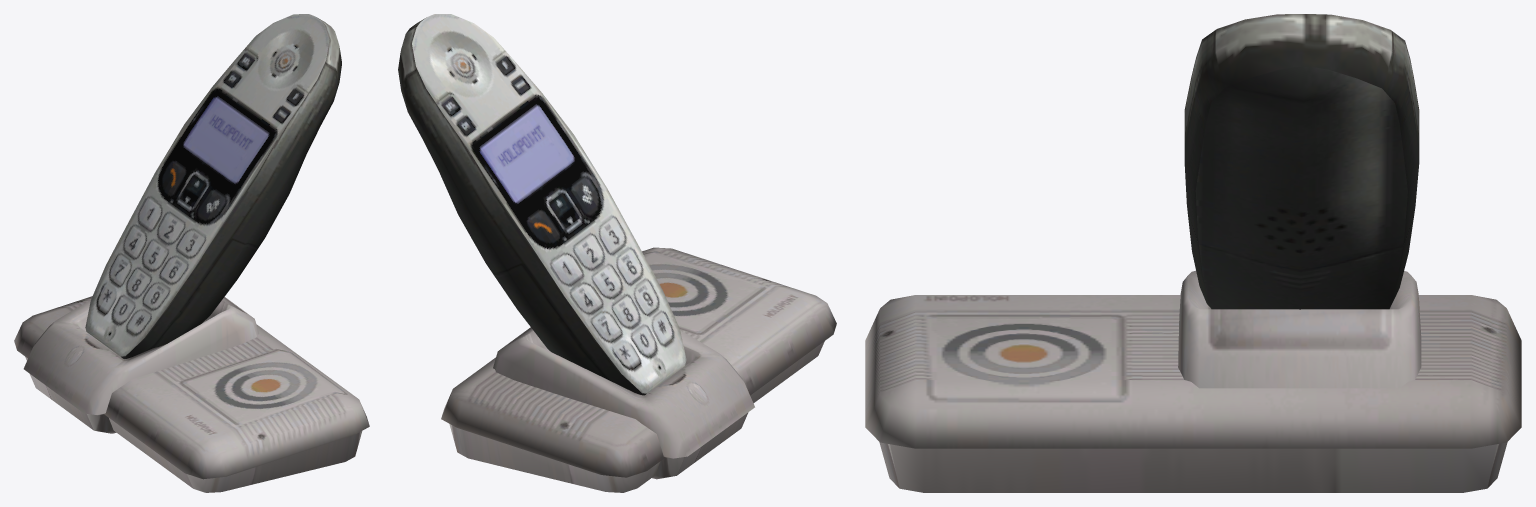
The model's file is officePhone.FBX.
The picture shows the model from 3 angles, left to right: view 1: azimuth 30°, elevation 25°; view 2: azimuth 150°, elevation 25°; view 3: azimuth 270°, elevation 25°; orthographic projection. The views are drawn at different scales.
Parts seen in each view (by area): view 1: phone, phonestand; view 2: phone, phonestand; view 3: phonestand, phone.
Part boxes in pixels (box(x1,y1,x2,y2)): phone: box(85, 14, 341, 358); phonestand: box(14, 296, 369, 492); phone: box(398, 14, 686, 395); phonestand: box(441, 247, 836, 492); phonestand: box(865, 270, 1521, 492); phone: box(1184, 14, 1419, 309).
Size of the model in its own units: 0.2358 by 0.2691 by 0.2875.
